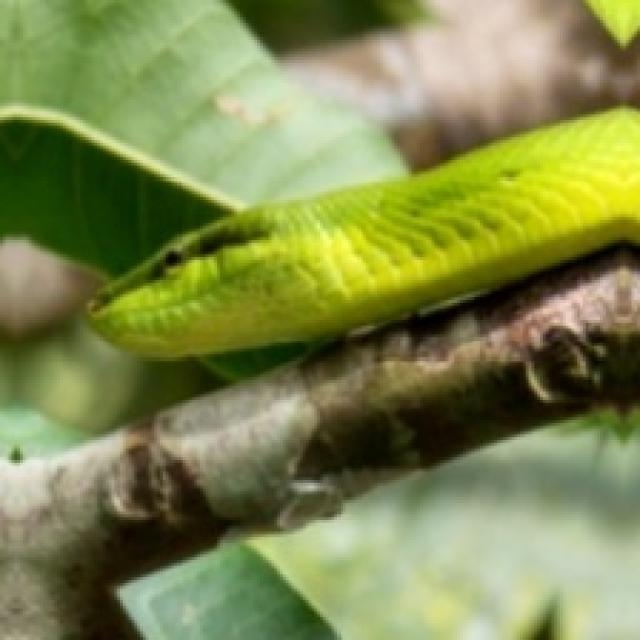red-tailed green ratsnake: (91, 109, 637, 354)
